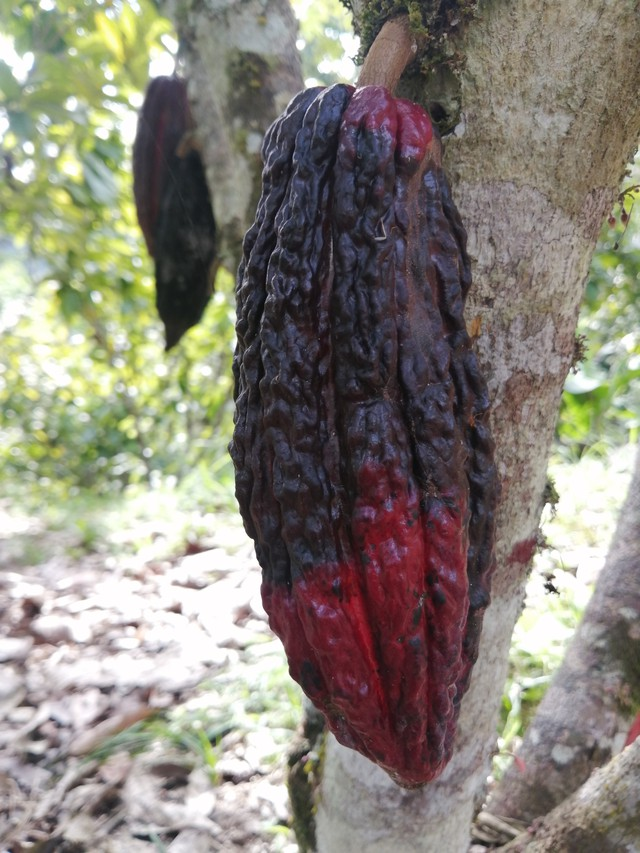phytophthora palmivora: (203, 66, 519, 801)
